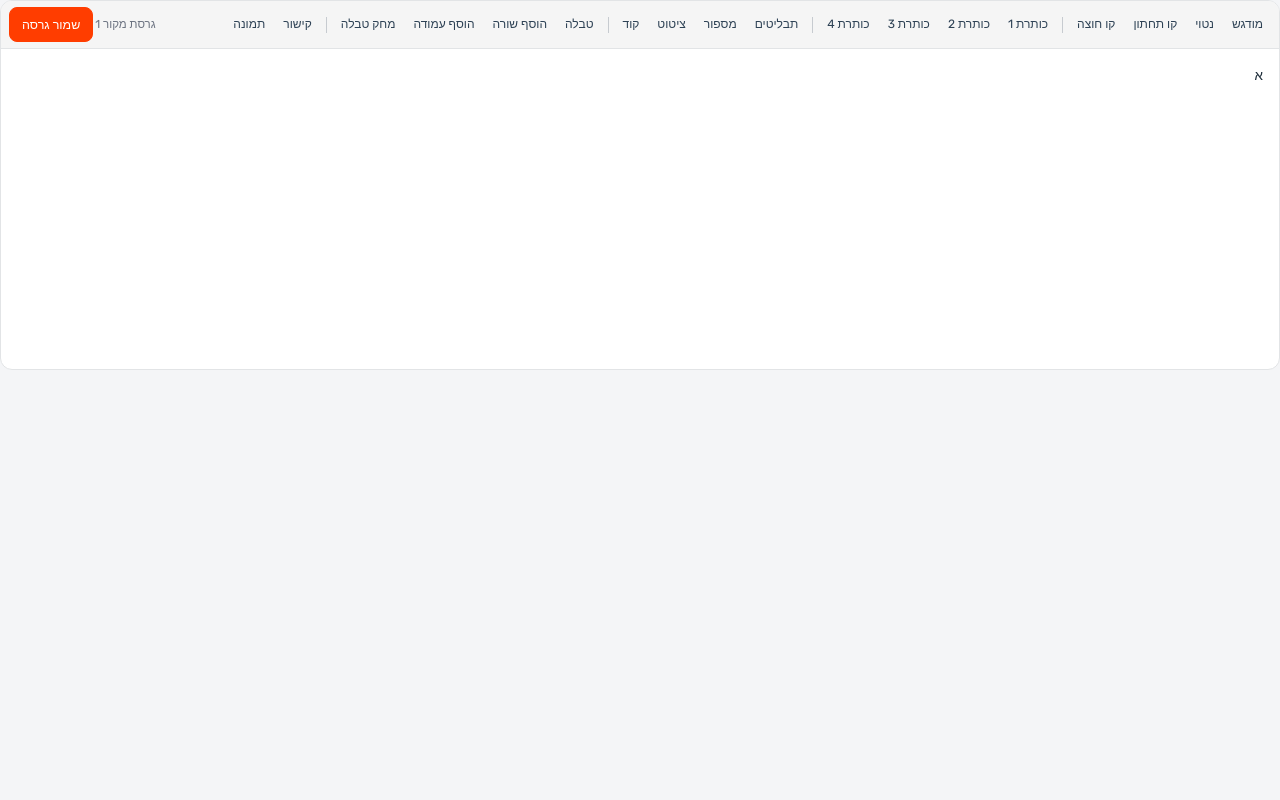
Scenario: SourceEditor › shows the conflict dialog on 412 and reloads on confirm
Check: the field reads "א", box x1=1254 y1=67 x2=1263 y2=83
Step 1. Click the button "שמור גרסה" → (51, 25), box x1=9 y1=7 x2=93 y2=42
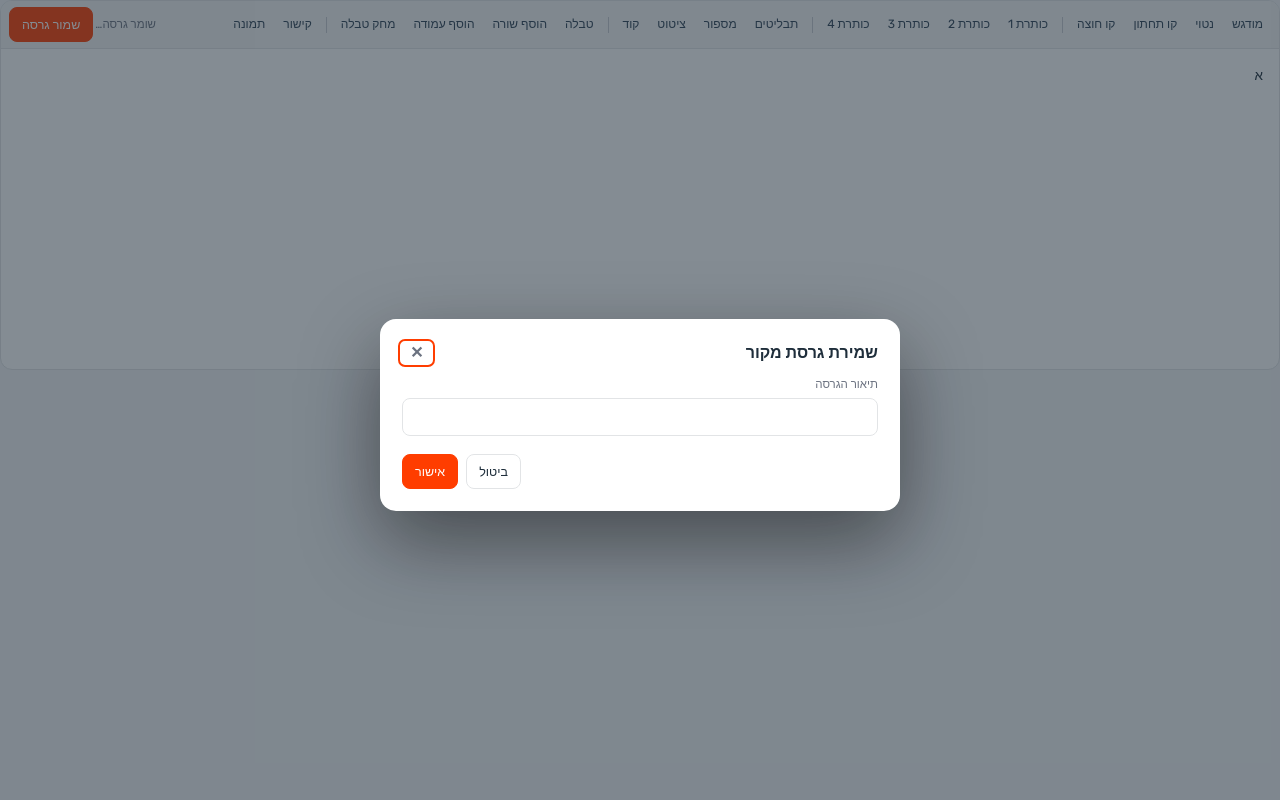
Step 2. Click the button "אישור" → (430, 471), box x1=402 y1=454 x2=458 y2=489
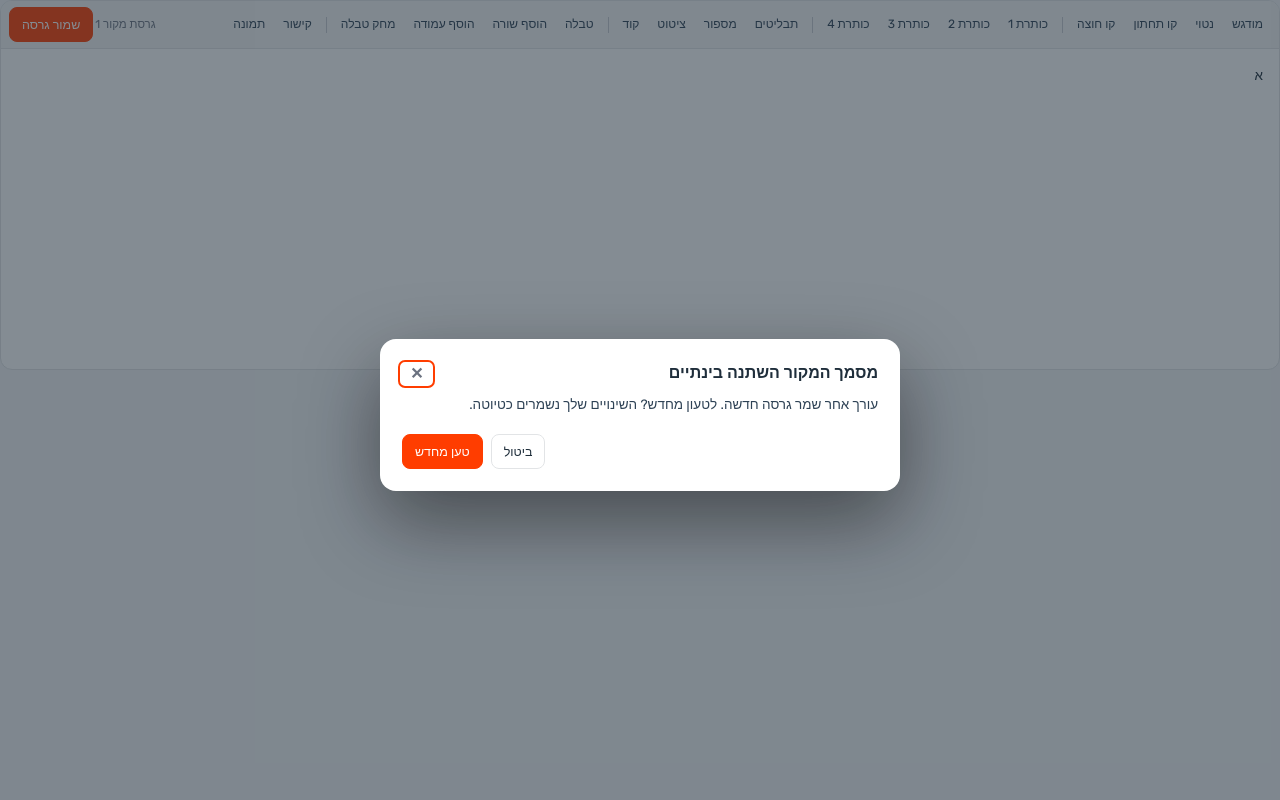
Check: the heading "מסמך המקור השתנה בינתיים ✕" is shown, box x1=402 y1=361 x2=878 y2=386
Step 3. Click the button "טען מחדש" → (442, 451), box x1=402 y1=434 x2=483 y2=469
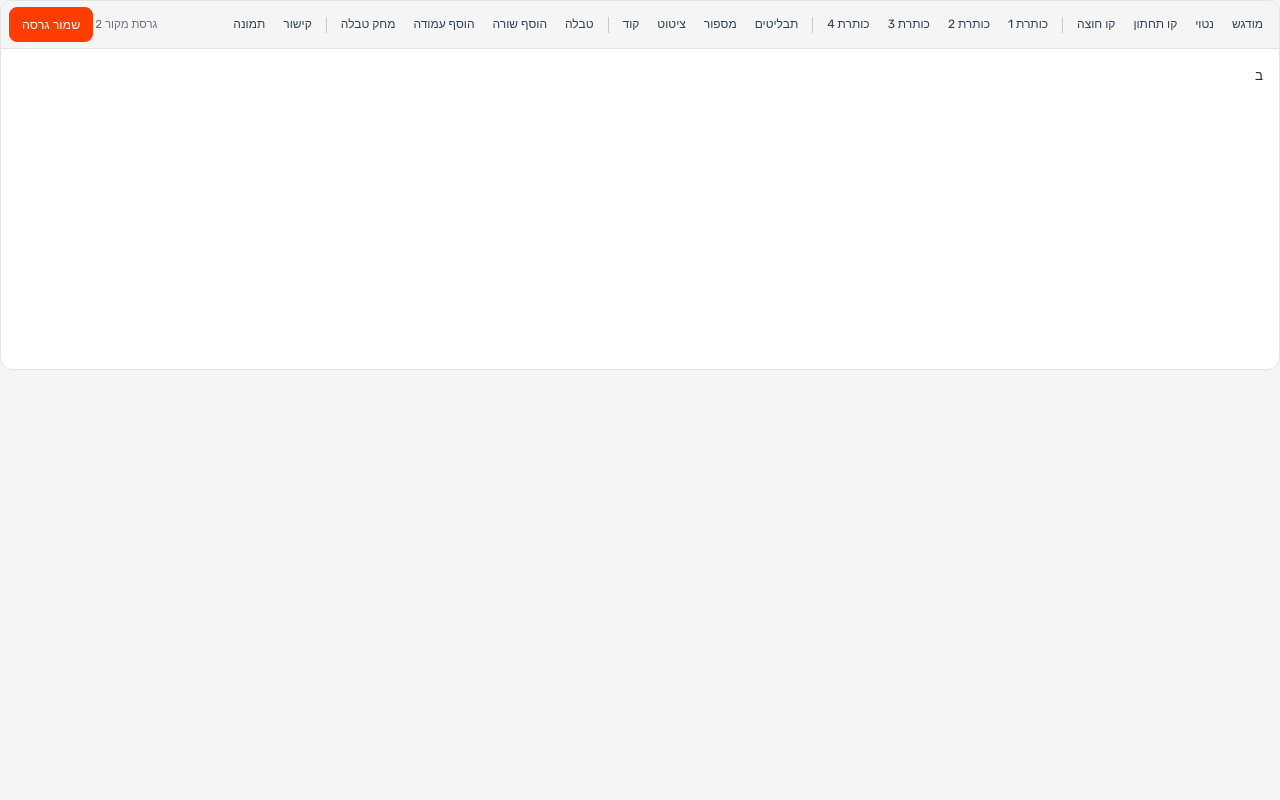
Check: the field reads "ב", box x1=1255 y1=67 x2=1263 y2=83
